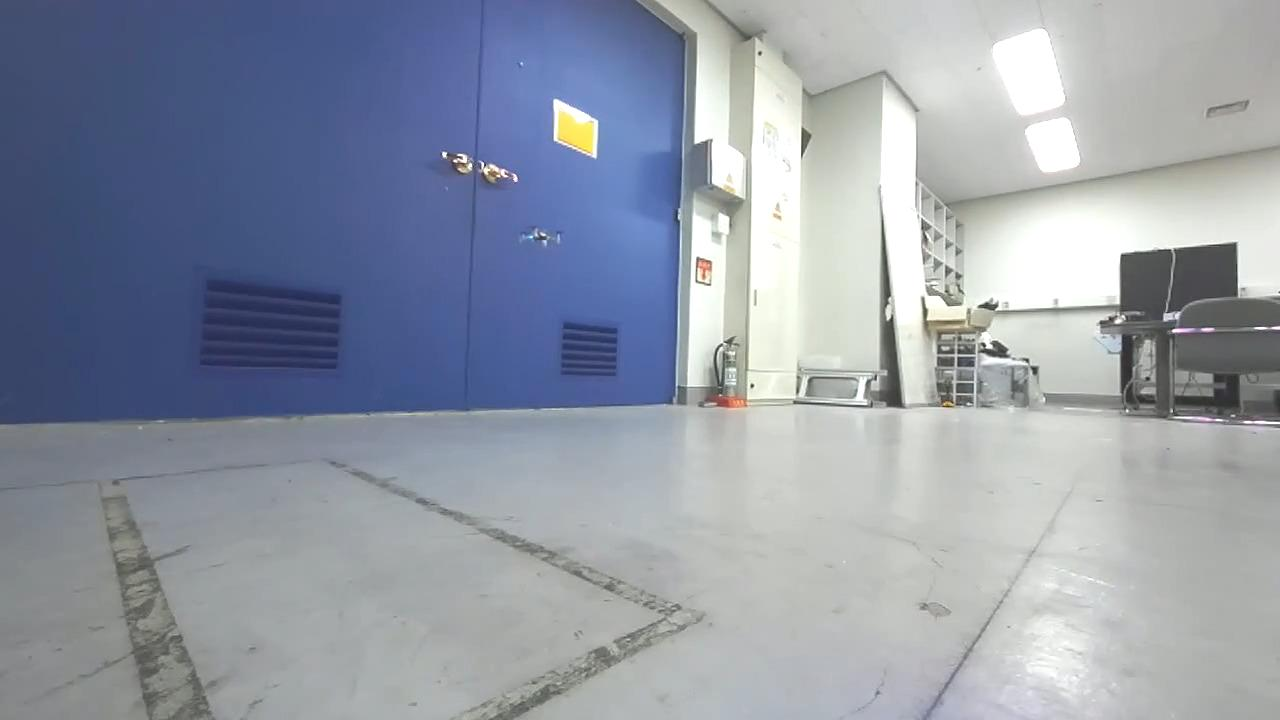crazyflie: (514, 223, 566, 251)
